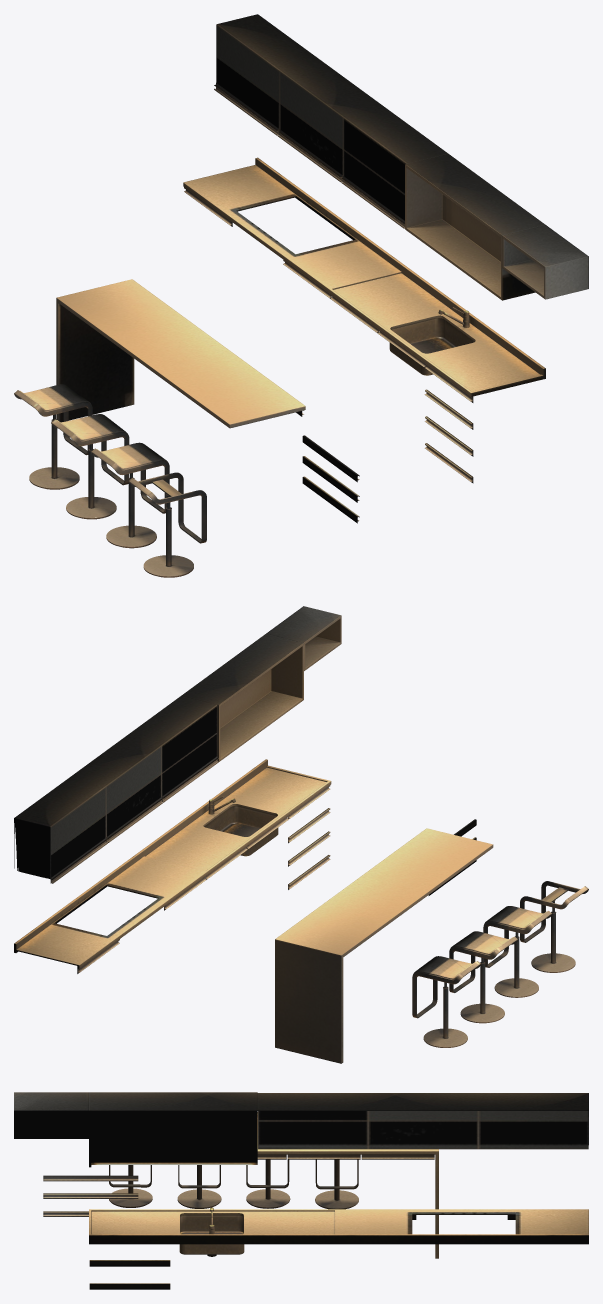
The model's file is simple_house_-_kitchen_7.obj.
3 views of the same model, one above another, from view 1: azimuth 30°, elevation 25°; view 2: azimuth 150°, elevation 25°; view 3: azimuth 270°, elevation 25° (orthographic). The views are drawn at different scales.
Bounding box in the file's own units: 3.07 × 2.1 × 4.6.
